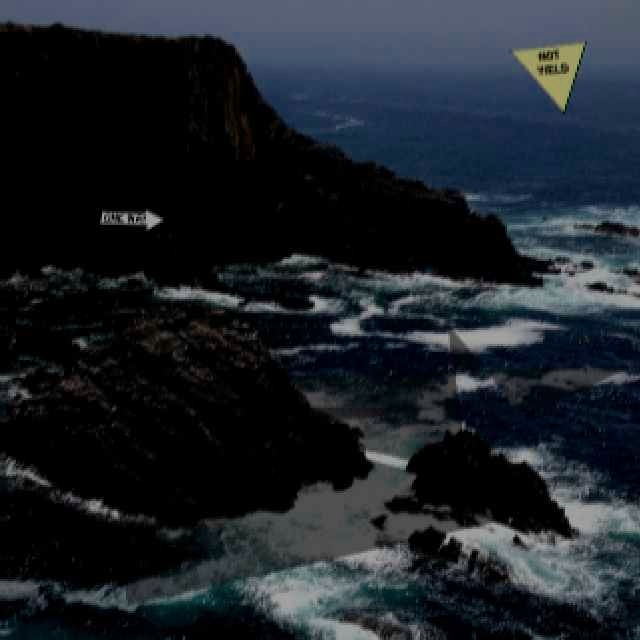NOT_YIELD: (506, 42, 583, 114)
ONE_WAY_ right: (91, 207, 168, 232)
